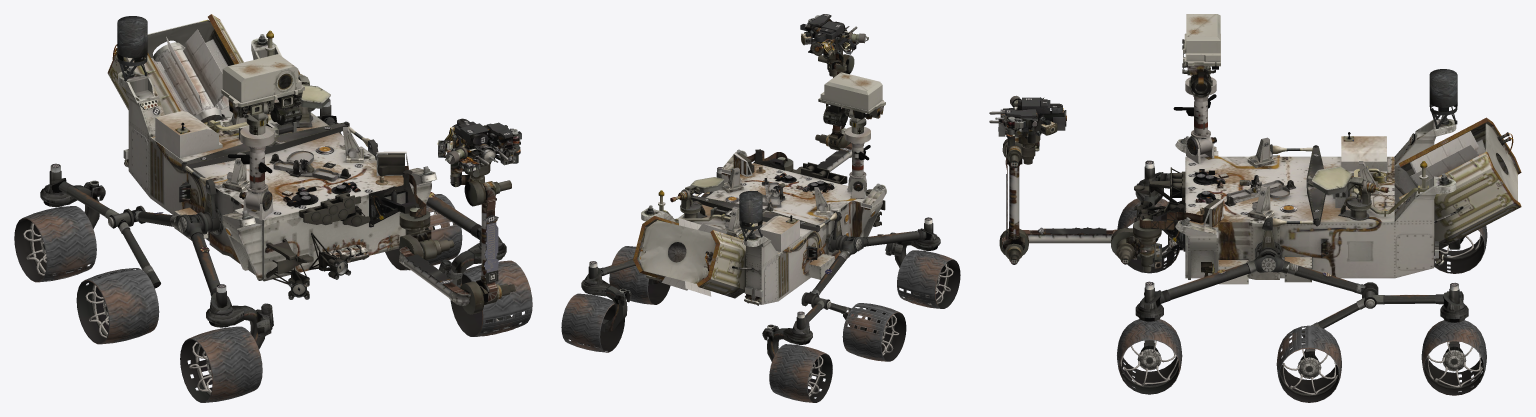
The model's file is curiosity.glb.
3 views of the same model, side by side, from view 1: azimuth 30°, elevation 25°; view 2: azimuth 150°, elevation 25°; view 3: azimuth 270°, elevation 25° (orthographic). The views are drawn at different scales.
Visible parts, largest first — view 1: MSL; view 2: MSL; view 3: MSL.
Part boxes in pixels (<box>): MSL: <box>14,14,532,402</box>; MSL: <box>561,14,960,402</box>; MSL: <box>989,14,1521,402</box>.
Bounding box in the file's own units: 2.78 × 2.22 × 3.94.
Materials: 9 (8 with a texture image).
